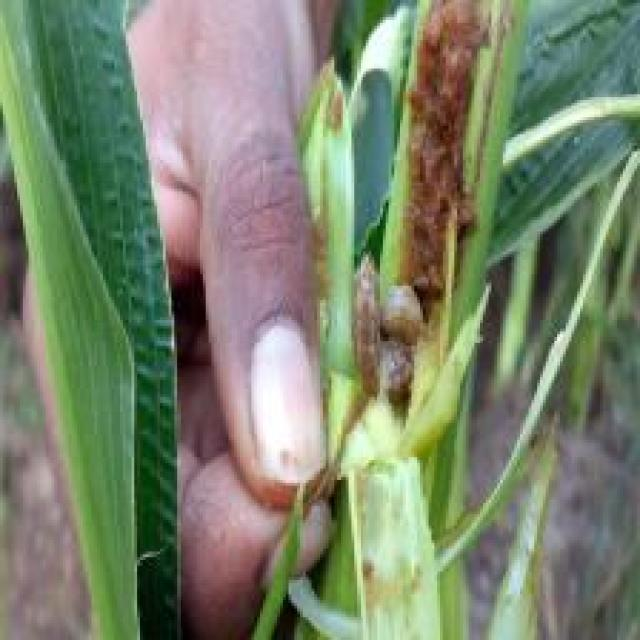Plaga: (335, 230, 438, 435)
